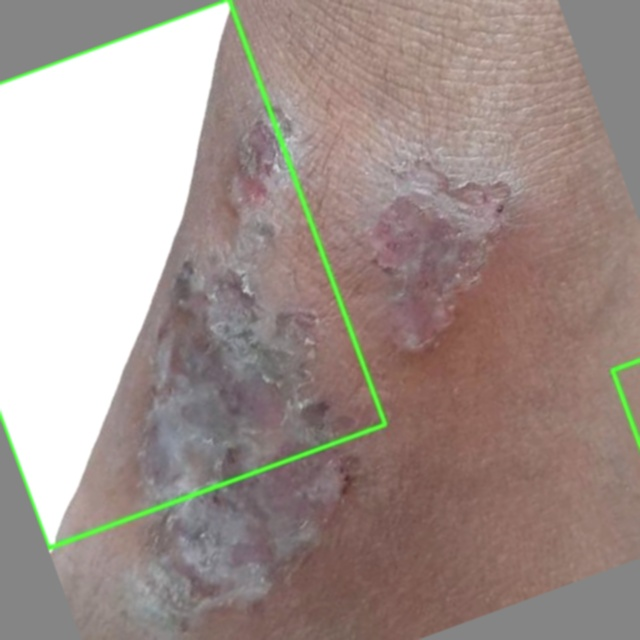Contact Dermatitis: (0, 0, 385, 548)
